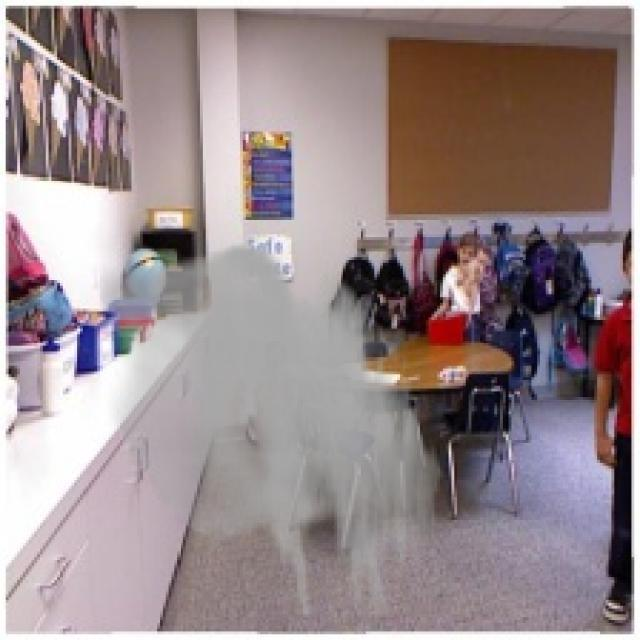Smoke: (100, 243, 446, 620)
